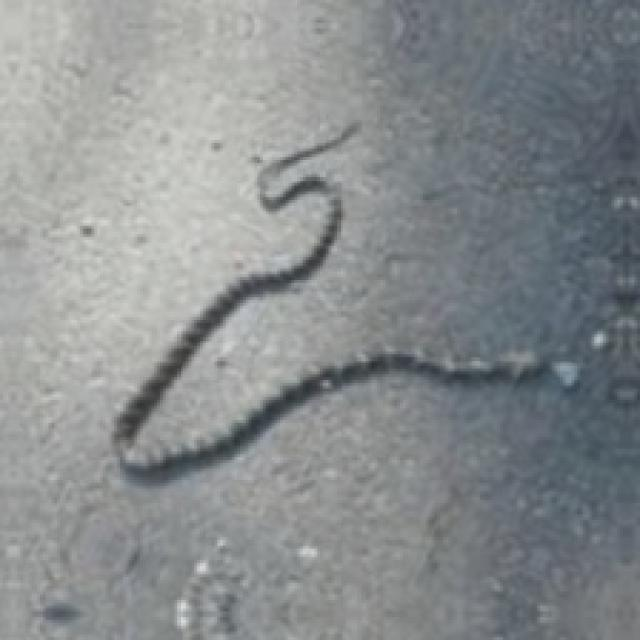king cobra: (114, 123, 540, 471)
